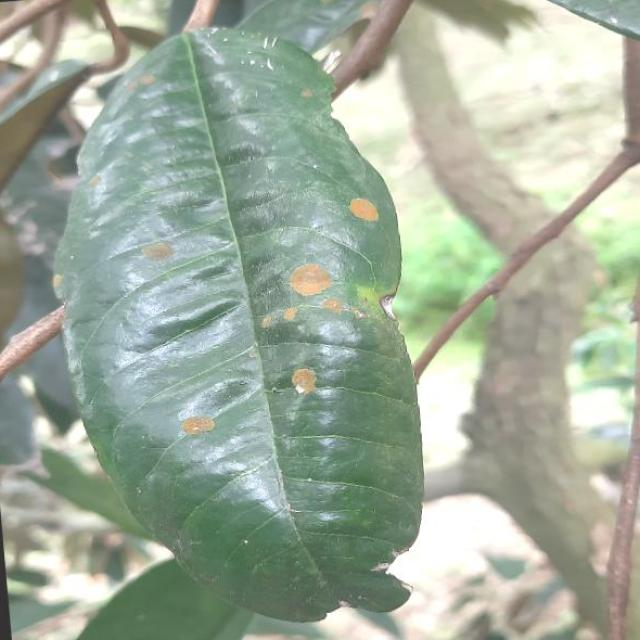Algal Leaf Spot: (28, 2, 430, 640)
